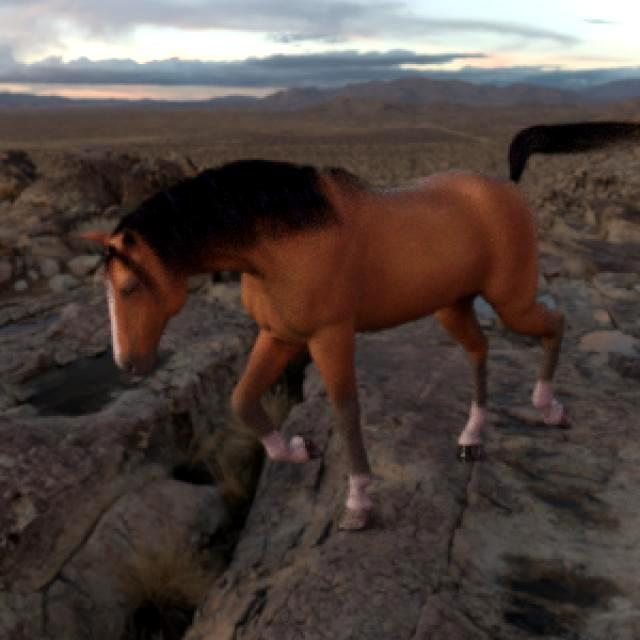horse: (100, 160, 570, 529), (509, 124, 640, 181)
